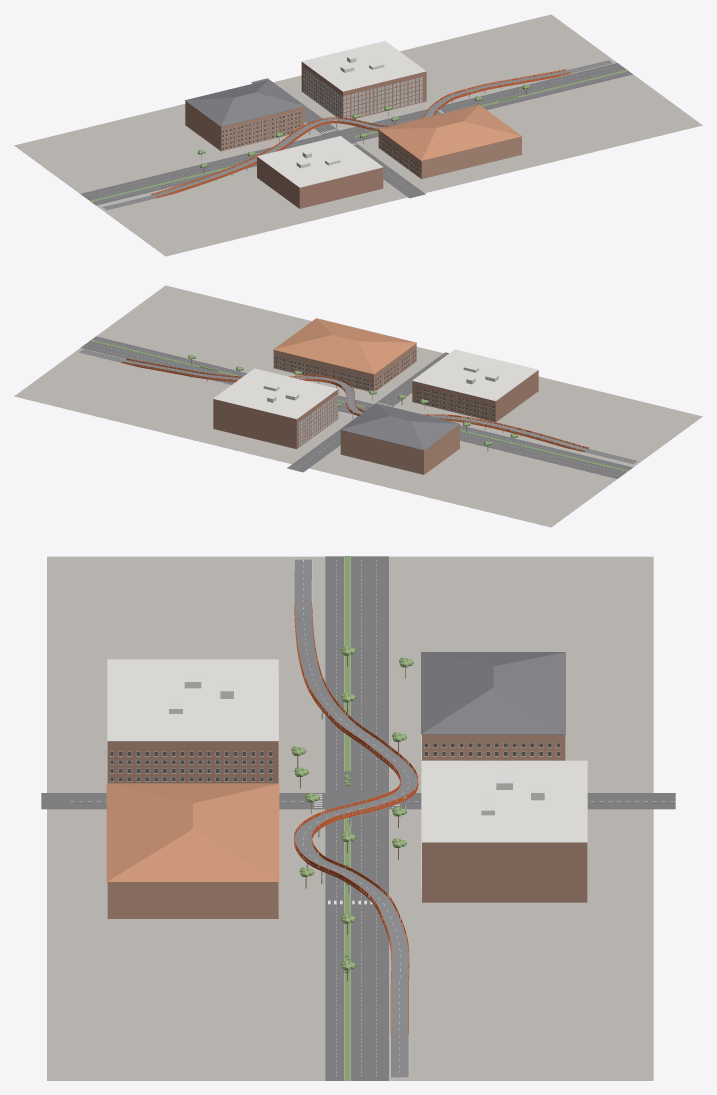
The model's file is clay-swooping-cycle-flyover-clay-v003.glb.
3 renders of one model, top to bottom at view 1: azimuth 30°, elevation 25°; view 2: azimuth 150°, elevation 25°; view 3: azimuth 270°, elevation 25°, orthographic. The views are drawn at different scales.
Visible parts, largest first — view 1: CLAY_PAVING, CLAY_TRIM, CLAY_ASPHALT, CLAY_BRICK, CLAY_BRICK2, CLAY_TILE, CLAY_ROOF, CLAY_DECK, CLAY_ORANGE, CLAY_GLASS, CLAY_PLANTING, CLAY_DARK (+2 smaller); view 2: CLAY_PAVING, CLAY_TRIM, CLAY_BRICK, CLAY_ASPHALT, CLAY_BRICK2, CLAY_TILE, CLAY_ROOF, CLAY_DECK, CLAY_ORANGE, CLAY_PLANTING, CLAY_DARK, CLAY_PALE (+2 smaller); view 3: CLAY_PAVING, CLAY_ASPHALT, CLAY_TRIM, CLAY_TILE, CLAY_BRICK, CLAY_ROOF, CLAY_BRICK2, CLAY_DECK, CLAY_PLANTING, CLAY_ORANGE, CLAY_DARK, CLAY_PALE (+2 smaller).
Boxes of the visible parts, box(x1,y1,x2,y2) form: CLAY_PAVING: box(14, 14, 702, 256); CLAY_TRIM: box(222, 41, 426, 187); CLAY_ASPHALT: box(80, 63, 632, 205); CLAY_BRICK: box(257, 62, 426, 208); CLAY_BRICK2: box(185, 101, 521, 179); CLAY_TILE: box(378, 105, 522, 160); CLAY_ROOF: box(185, 80, 304, 126); CLAY_DECK: box(103, 60, 612, 210); CLAY_ORANGE: box(151, 69, 570, 198); CLAY_GLASS: box(304, 68, 422, 118); CLAY_PLANTING: box(90, 69, 627, 201); CLAY_DARK: box(222, 112, 420, 177); CLAY_PAVING: box(14, 285, 702, 527); CLAY_TRIM: box(213, 349, 538, 446); CLAY_BRICK: box(213, 370, 538, 449); CLAY_ASPHALT: box(80, 336, 632, 478); CLAY_BRICK2: box(273, 344, 459, 474); CLAY_TILE: box(273, 318, 416, 374); CLAY_ROOF: box(340, 403, 460, 450); CLAY_DECK: box(79, 349, 637, 463); CLAY_ORANGE: box(121, 358, 588, 452); CLAY_PLANTING: box(90, 339, 627, 471); CLAY_DARK: box(275, 350, 494, 420); CLAY_PALE: box(263, 365, 498, 402); CLAY_PAVING: box(47, 556, 653, 1080); CLAY_ASPHALT: box(41, 556, 675, 1080); CLAY_TRIM: box(107, 659, 587, 914); CLAY_TILE: box(106, 783, 279, 882); CLAY_BRICK: box(107, 741, 587, 902); CLAY_ROOF: box(421, 652, 565, 734); CLAY_BRICK2: box(107, 734, 565, 918); CLAY_DECK: box(294, 559, 417, 1077); CLAY_PLANTING: box(291, 556, 413, 1080); CLAY_ORANGE: box(294, 604, 418, 1035); CLAY_DARK: box(110, 743, 560, 781); CLAY_PALE: box(169, 672, 544, 815).
Bounding box in the file's own units: 450 × 27.16 × 230.
